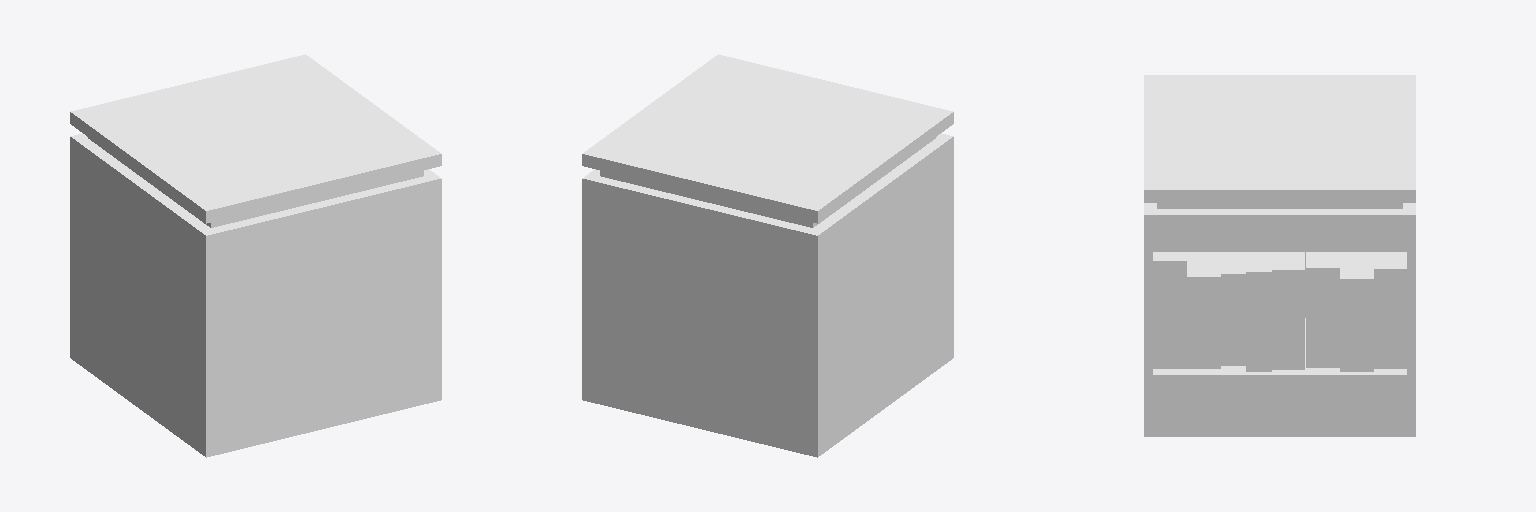
The model's file is fancyworkbench.obj.
3 views of the same model, side by side, from view 1: azimuth 30°, elevation 25°; view 2: azimuth 150°, elevation 25°; view 3: azimuth 270°, elevation 25° (orthographic).
Visible parts, largest first — view 1: sides, top, bench; view 2: sides, top, bench; view 3: top, bench, book7, book2, book1, book6, book5, book8, book4, book3, sides.
Part boxes in pixels (bbox=[...]): sides: bbox=[70, 174, 441, 395]; top: bbox=[70, 54, 441, 235]; bench: bbox=[70, 137, 441, 457]; sides: bbox=[582, 174, 953, 395]; top: bbox=[582, 54, 953, 235]; bench: bbox=[582, 137, 953, 457]; top: bbox=[1144, 75, 1415, 214]; bench: bbox=[1144, 203, 1415, 436]; book7: bbox=[1340, 252, 1373, 371]; book2: bbox=[1187, 252, 1220, 368]; book1: bbox=[1153, 252, 1186, 368]; book6: bbox=[1306, 252, 1339, 367]; book5: bbox=[1272, 252, 1304, 369]; book8: bbox=[1374, 252, 1406, 368]; book4: bbox=[1246, 252, 1271, 371]; book3: bbox=[1221, 252, 1245, 365]; sides: bbox=[1144, 252, 1415, 374].
Size of the model in its own units: 1 by 1 by 1.